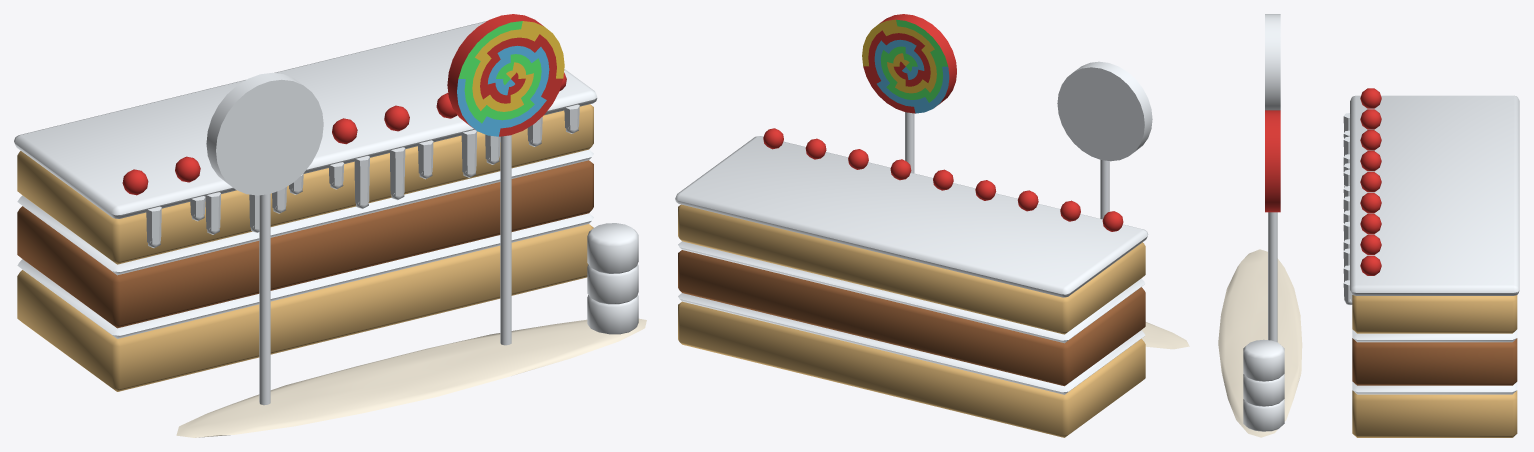
Rendered from CandyWallC.fbx.
3 views of the same model, side by side, from view 1: azimuth 30°, elevation 25°; view 2: azimuth 150°, elevation 25°; view 3: azimuth 270°, elevation 25° (orthographic). The views are drawn at different scales.
Parts seen in each view (by area): view 1: CandyWallC; view 2: CandyWallC; view 3: CandyWallC.
Part boxes in pixels (x1,y1,x2,y2): CandyWallC: [14, 14, 646, 437]; CandyWallC: [675, 14, 1189, 437]; CandyWallC: [1218, 14, 1519, 437].
Size of the model in its own units: 7.66 by 4.95 by 5.03.
Materials: 2 (2 with a texture image).
